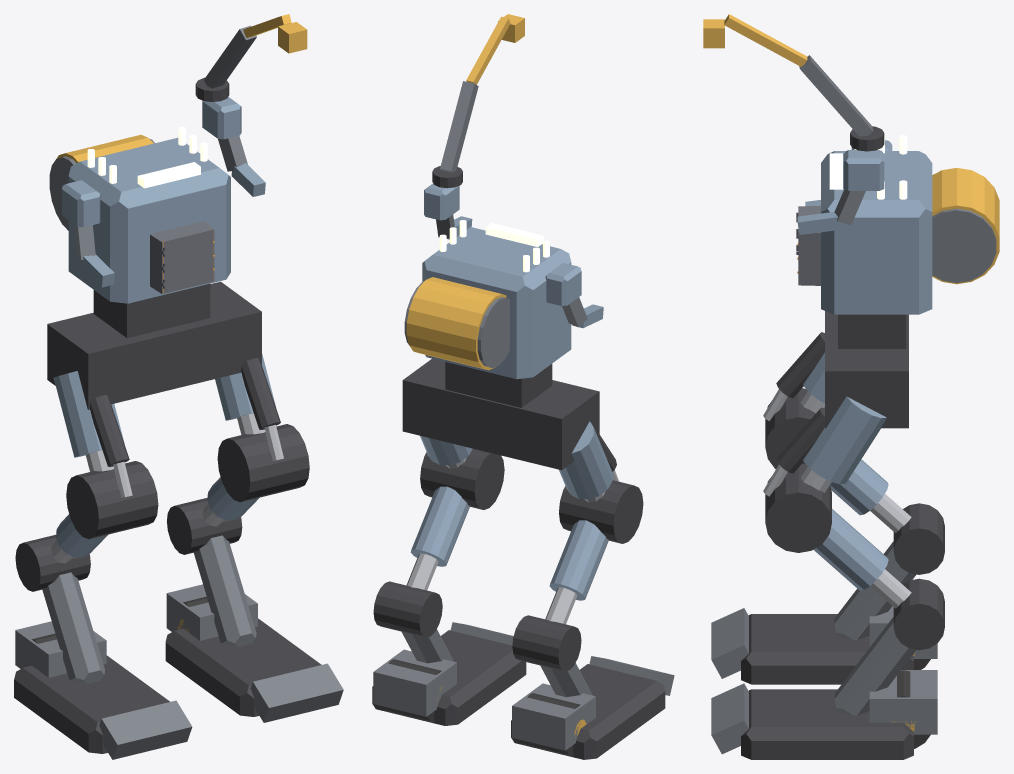
File: lineman.glb
3 views of the same model, side by side, from view 1: azimuth 30°, elevation 25°; view 2: azimuth 150°, elevation 25°; view 3: azimuth 270°, elevation 25° (orthographic). The views are drawn at different scales.
Visible parts, largest first — view 1: torso, hips, foot-1_sole, foot1_sole, knee1, knee-1, meta-1, meta1, waist, foot1_toe, foot-1_toe, door (+23 smaller); view 2: hips, torso, cable, foot-1_sole, foot1_sole, foot1_housing, foot-1_housing, knee-1, knee1, hock-1, hock1, waist (+19 smaller); view 3: torso, foot1_sole, foot-1_sole, hips, knee1, drum, thigh1, meta1, foot1_housing, cable, shin1, hock-1 (+23 smaller).
Part boxes in pixels (x1,y1,x2,y2): torso: [68, 137, 230, 303]; hips: [47, 281, 261, 409]; foot-1_sole: [14, 655, 169, 753]; foot1_sole: [165, 618, 321, 716]; knee1: [217, 424, 309, 502]; knee-1: [66, 461, 158, 539]; meta-1: [42, 572, 104, 683]; meta1: [194, 535, 256, 646]; waist: [93, 283, 210, 338]; foot1_toe: [250, 663, 343, 722]; foot-1_toe: [99, 700, 192, 759]; door: [163, 229, 212, 293]; hips: [402, 358, 599, 470]; torso: [422, 227, 571, 379]; cable: [406, 277, 506, 370]; foot-1_sole: [511, 664, 665, 759]; foot1_sole: [372, 630, 526, 725]; foot1_housing: [373, 649, 456, 716]; foot-1_housing: [512, 683, 595, 750]; knee-1: [559, 480, 643, 543]; knee1: [420, 448, 504, 509]; hock-1: [512, 615, 581, 671]; hock1: [373, 581, 442, 637]; waist: [445, 362, 552, 407]; torso: [821, 151, 932, 314]; foot1_sole: [741, 689, 913, 759]; foot-1_sole: [741, 614, 913, 684]; hips: [825, 311, 908, 428]; knee1: [765, 463, 831, 552]; drum: [932, 208, 996, 282]; thigh1: [803, 396, 886, 484]; meta1: [834, 617, 916, 715]; foot1_housing: [869, 670, 937, 734]; cable: [932, 168, 999, 284]; shin1: [813, 509, 888, 590]; hock-1: [893, 503, 944, 574].
Bounding box in the file's own units: 11 × 30.11 × 11.3.
